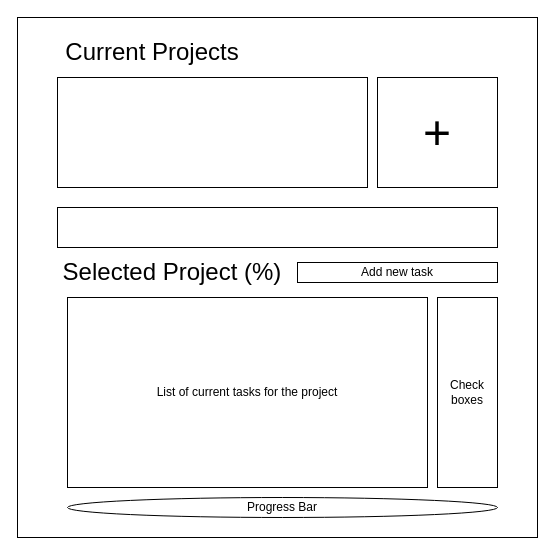
Image size: 555x555. Some labels were removed from this diagram. The centre of each missing label's shape, as x and y in pixels:
Input fields appear after + is clicked for new project: the point at 277,227
List of current projects: the point at 212,132
